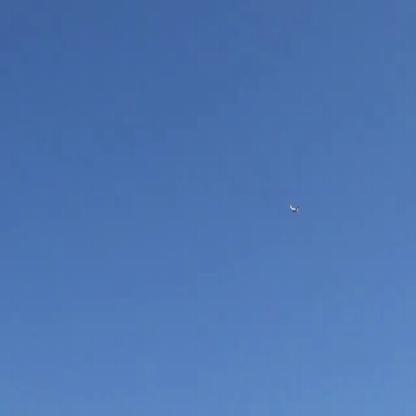CIV_Plane: (288, 203, 300, 212)
